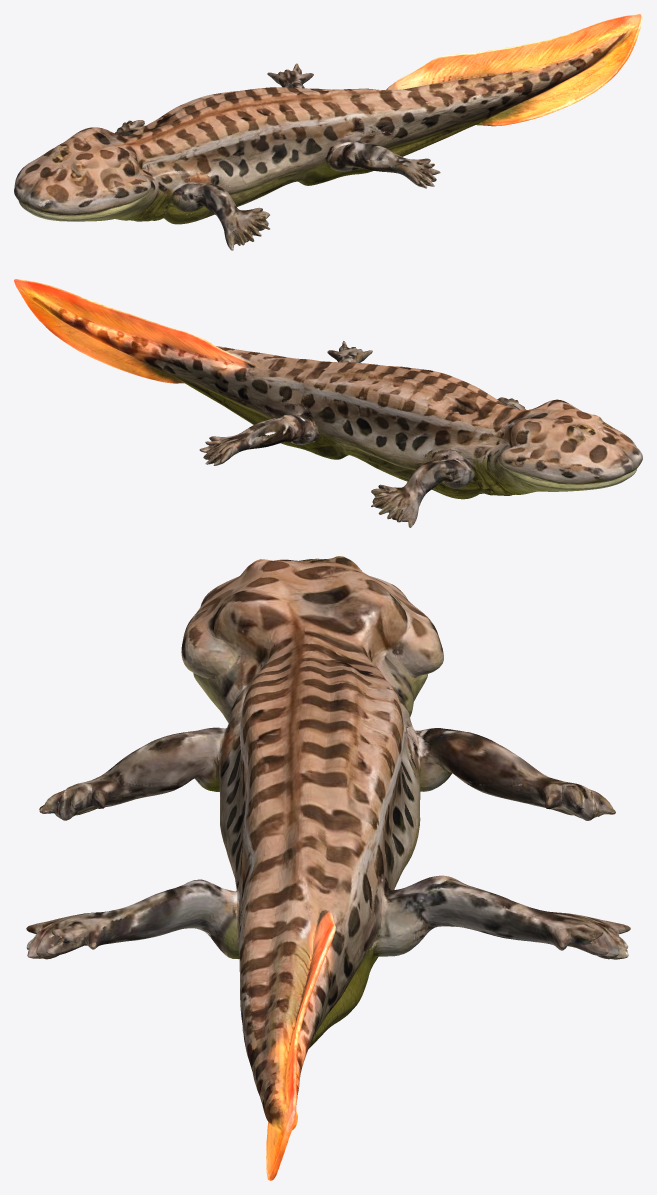
The model's file is spotted_axolotl.fbx.
The picture shows the model from 3 angles, top to bottom: view 1: azimuth 30°, elevation 25°; view 2: azimuth 150°, elevation 25°; view 3: azimuth 270°, elevation 25°; orthographic projection. The views are drawn at different scales.
Visible parts, largest first — view 1: world; view 2: world; view 3: world.
Part boxes in pixels (bbox=[...]): world: bbox=[14, 14, 642, 250]; world: bbox=[14, 279, 642, 527]; world: bbox=[26, 556, 630, 1180].
Size of the model in its own units: 199 by 32.63 by 83.87.
Materials: 1 (1 with a texture image).
